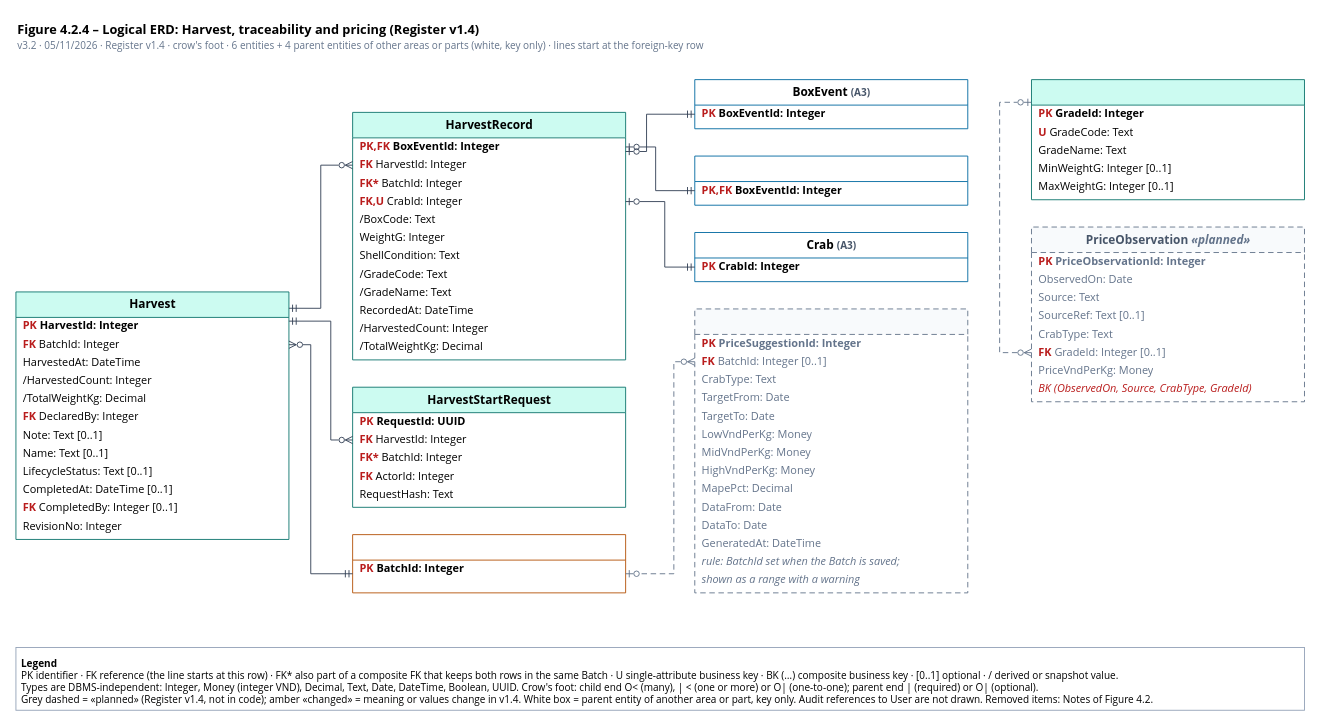
This 1320x726 diagram has some shape labels left out. Here are the shapes that lost their labels. From the top down, the box of each, then its label:
(1031, 79, 1304, 200): ProductGrade
(694, 155, 968, 205): BoxEventDetail (A3)
(694, 308, 968, 593): PriceSuggestion «planned»
(352, 534, 626, 593): Batch (A2)
